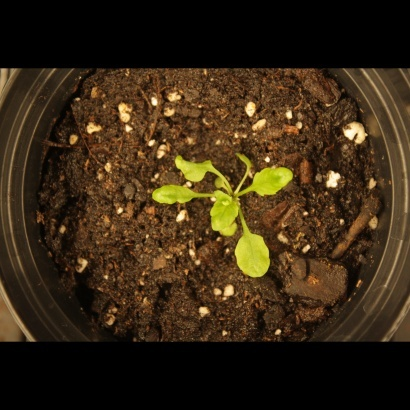leaf: (232, 233, 275, 287), (252, 160, 295, 200), (175, 151, 218, 185), (148, 181, 197, 210), (206, 195, 240, 231), (231, 143, 258, 174), (219, 218, 242, 241)
